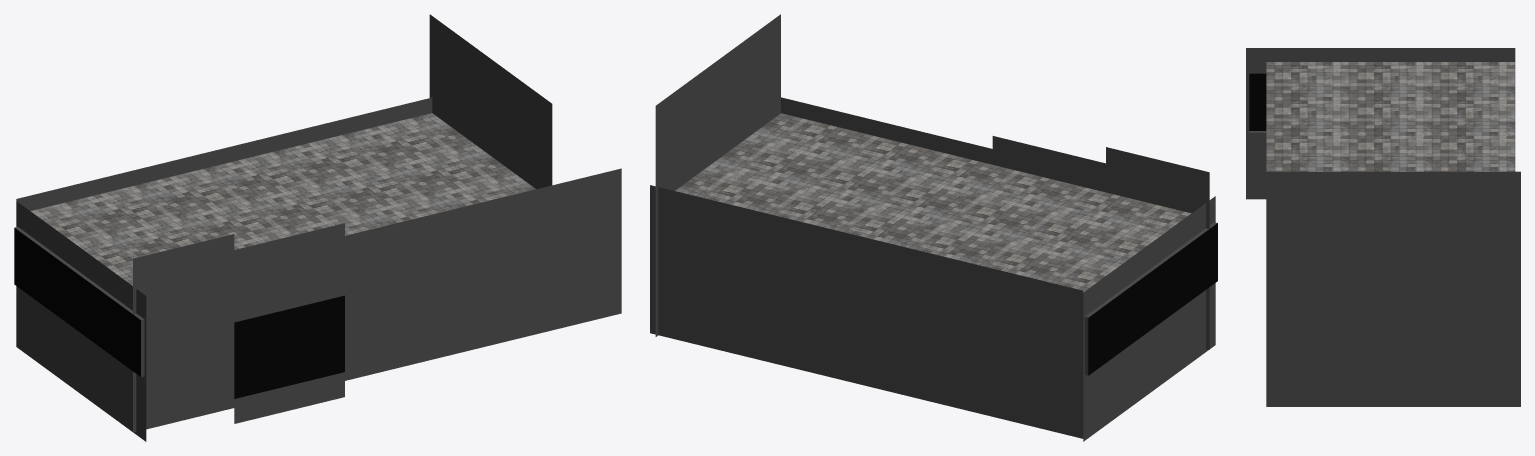
Rendered from Bounds.fbx.
The picture shows the model from 3 angles, left to right: view 1: azimuth 30°, elevation 25°; view 2: azimuth 150°, elevation 25°; view 3: azimuth 270°, elevation 25°; orthographic projection. The views are drawn at different scales.
Visible parts, largest first — view 1: Bounds; view 2: Bounds; view 3: Bounds.
Part boxes in pixels (x1,y1,x2,y2): Bounds: (14,14,621,441); Bounds: (650,14,1217,441); Bounds: (1246,48,1520,406).
Size of the model in its own units: 35.26 by 16.74 by 16.54.
